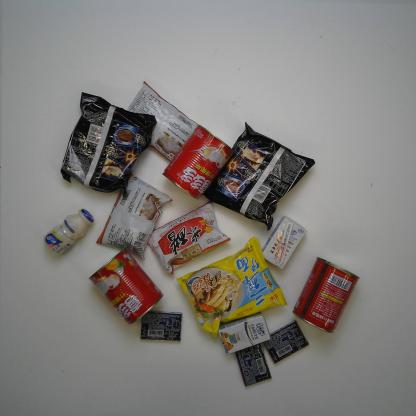Canned Food: (87, 245, 165, 326), (160, 125, 235, 198), (292, 256, 360, 334)
Gum: (262, 320, 310, 363), (236, 342, 272, 387), (139, 311, 183, 341)
Instant Noodles: (202, 122, 317, 230), (177, 236, 288, 339), (60, 91, 158, 194)
Milk: (258, 214, 307, 270), (42, 207, 94, 256), (216, 312, 272, 356)
Seasoner: (95, 169, 171, 262), (120, 81, 202, 164), (142, 200, 232, 275)
